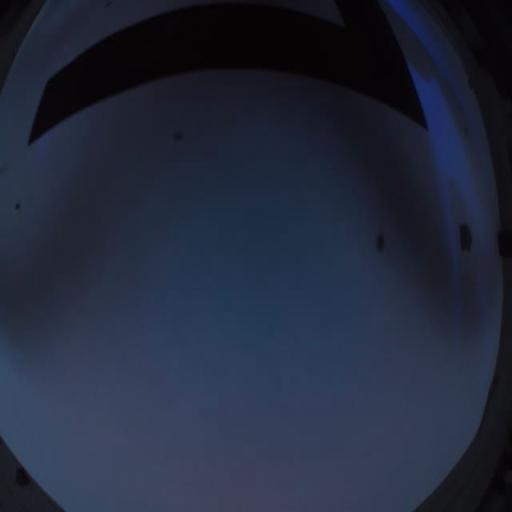E: (26, 0, 427, 148)
